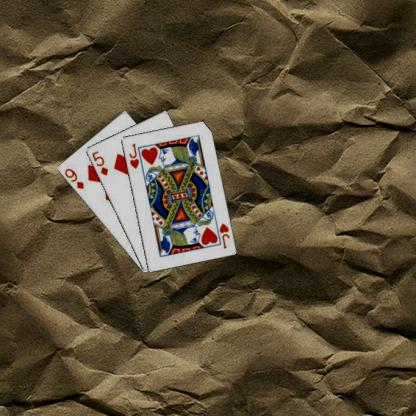5D: (89, 148, 109, 177)
9D: (61, 166, 84, 190)
JH: (216, 221, 231, 249), (127, 141, 140, 169)
